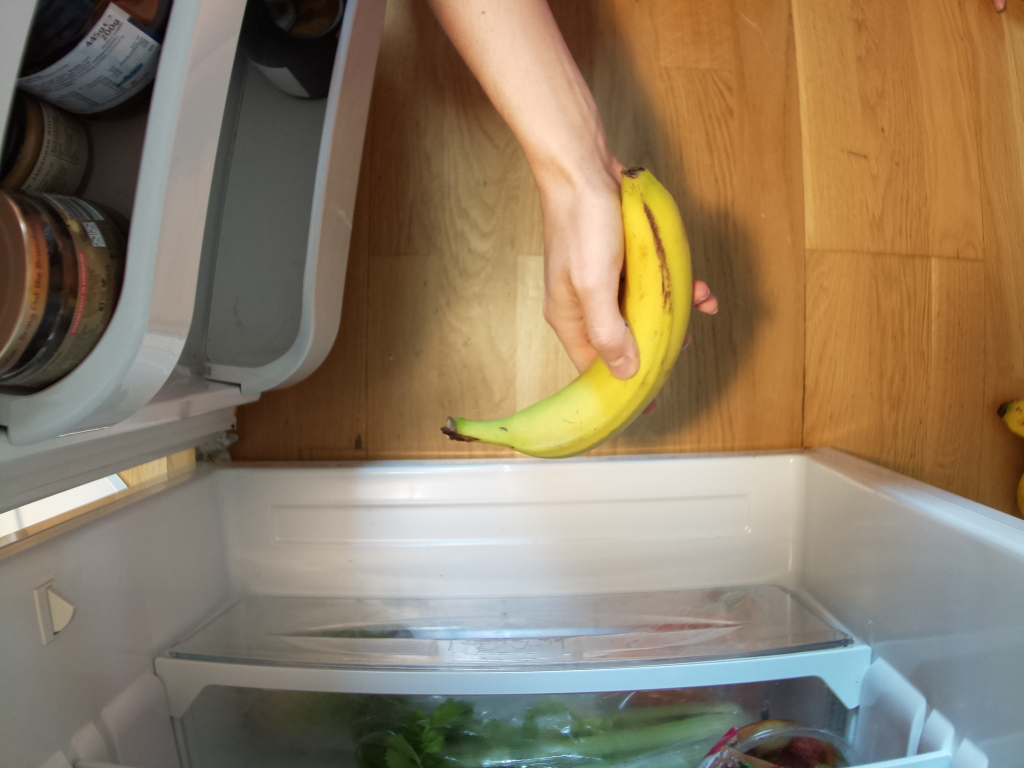banana-unripe: (438, 156, 696, 459)
